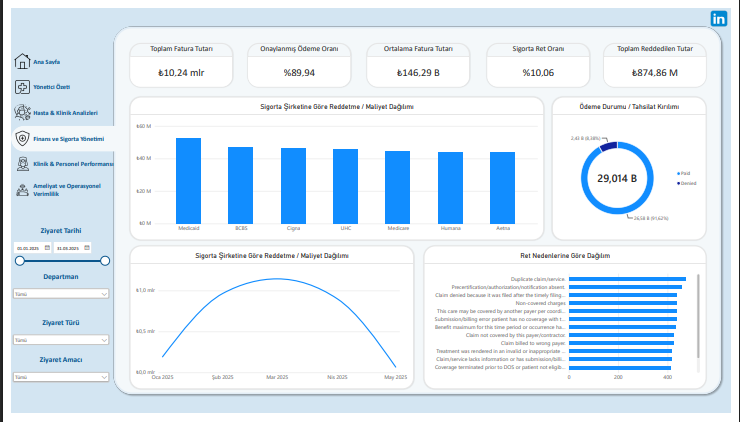

This screenshot's page, from the dashboard's own definition file:
{"tool":"powerbi","page":{"name":"Finans ve Sigorta Yönetimi","canvas":[1920,1080],"ordinal":3},"visuals":[{"type":"shape","box":[267.1,41.4,1635.7,995.7],"z":0},{"type":"actionButton","title":"Yönetici Özeti","box":[0,177.1,317.1,68.6],"z":1000},{"type":"image","box":[0,184.3,61.4,52.9],"z":2000},{"type":"actionButton","title":"Yönetici Özeti","box":[0,108.6,267.1,68.6],"z":3000},{"type":"image","box":[5.7,120,50,44.3],"z":4000},{"type":"actionButton","title":"Yönetici Özeti","box":[0,245.7,290,68.6],"z":5000},{"type":"image","box":[5.7,257.1,50,44.3],"z":6000},{"type":"actionButton","title":"Yönetici Özeti","box":[0,314.3,317.1,68.6],"z":7000},{"type":"image","box":[5.7,325.7,50,44.3],"z":8000},{"type":"actionButton","title":"Yönetici Özeti","box":[0,382.9,290,68.6],"z":9000},{"type":"image","box":[5.7,394.3,50,44.3],"z":10000},{"type":"actionButton","title":"Yönetici Özeti","box":[0,451.4,290,68.6],"z":11000},{"type":"image","box":[5.7,462.9,50,44.3],"z":12000},{"type":"image","box":[1854.3,0,65.7,55.7],"z":13000},{"type":"slicer","title":"Ziyaret Tarihi","fields":{"Values":["encounters.visit_date"]},"box":[0,580,267.1,122.9],"z":14000},{"type":"slicer","title":"Departman","fields":{"Values":["encounters.department"]},"box":[0,702.9,267.1,122.9],"z":15000},{"type":"slicer","title":"Ziyaret Türü","fields":{"Values":["encounters.visit_type"]},"box":[0,825.7,267.1,122.9],"z":16000},{"type":"slicer","title":"Ziyaret Amacı","fields":{"Values":["encounters.admission_type"]},"box":[0,925.7,267.1,122.9],"z":17000},{"type":"cardVisual","title":"Toplam Fatura Tutarı","fields":{"Data":["Sum(claims_and_billing.billed_amount)"]},"box":[317.1,94.3,274.3,117.1],"z":18000},{"type":"cardVisual","title":"Ortalama Fatura Tutarı","fields":{"Data":["claims_and_billing.Ortalama_Fatura_Tutari"]},"box":[948.6,94.3,274.3,117.1],"z":19000},{"type":"cardVisual","title":"Sigorta Ret Oranı","fields":{"Data":["claims_and_billing.Sigorta_Ret_Orani"]},"box":[1268.6,94.3,274.3,117.1],"z":20000},{"type":"cardVisual","title":"Onaylanmış Ödeme Oranı","fields":{"Data":["claims_and_billing.Onay_Orani"]},"box":[631.4,94.3,274.3,117.1],"z":21000},{"type":"cardVisual","title":"Toplam Reddedilen Tutar","fields":{"Data":["claims_and_billing.Toplam_Reddedilen_Tutar"]},"box":[1580,94.3,274.3,117.1],"z":22000},{"type":"clusteredColumnChart","title":"Sigorta Şirketine Göre Reddetme / Maliyet Dağılımı","fields":{"Category":["claims_and_billing.insurance_provider"],"Y":["claims_and_billing.Toplam_Reddedilen_Tutar"]},"box":[317.1,237.1,1104.3,381.4],"z":23000},{"type":"donutChart","title":"Ödeme Durumu / Tahsilat Kırılımı ","fields":{"Category":["claims_and_billing.claim_status"],"Y":["CountNonNull(claims_and_billing.claim_id)"]},"box":[1442.9,237.1,411.4,381.4],"z":24000},{"type":"lineChart","title":"Sigorta Şirketine Göre Reddetme / Maliyet Dağılımı","fields":{"Category":["claims_and_billing.claim_billing_date.Varyasyon.Tarih Hiyerarşisi.Yıl","claims_and_billing.claim_billing_date.Varyasyon.Tarih Hiyerarşisi.Ay"],"Y":["Sum(claims_and_billing.billed_amount)"]},"box":[317.1,634.3,757.1,381.4],"z":25000},{"type":"clusteredBarChart","title":"Ret Nedenlerine Göre Dağılım","fields":{"Category":["denials.denial_reason_description"],"Y":["CountNonNull(denials.claim_id)"]},"box":[1101.4,634.3,752.9,381.4],"z":26000}]}

Visuals, with their boxes on the page's 1920x1080 design canvas (x1, y1, x2, y2). These are canvas units, not pixel positions in the 740x422 screenshot, which may show the page scaled, cropped or inside an application window:
shape: {"x1": 267, "y1": 41, "x2": 1903, "y2": 1037}
"Yönetici Özeti" actionButton: {"x1": 0, "y1": 177, "x2": 317, "y2": 246}
image: {"x1": 0, "y1": 184, "x2": 61, "y2": 237}
"Yönetici Özeti" actionButton: {"x1": 0, "y1": 109, "x2": 267, "y2": 177}
image: {"x1": 6, "y1": 120, "x2": 56, "y2": 164}
"Yönetici Özeti" actionButton: {"x1": 0, "y1": 246, "x2": 290, "y2": 314}
image: {"x1": 6, "y1": 257, "x2": 56, "y2": 301}
"Yönetici Özeti" actionButton: {"x1": 0, "y1": 314, "x2": 317, "y2": 383}
image: {"x1": 6, "y1": 326, "x2": 56, "y2": 370}
"Yönetici Özeti" actionButton: {"x1": 0, "y1": 383, "x2": 290, "y2": 452}
image: {"x1": 6, "y1": 394, "x2": 56, "y2": 439}
"Yönetici Özeti" actionButton: {"x1": 0, "y1": 451, "x2": 290, "y2": 520}
image: {"x1": 6, "y1": 463, "x2": 56, "y2": 507}
image: {"x1": 1854, "y1": 0, "x2": 1920, "y2": 56}
"Ziyaret Tarihi" slicer: {"x1": 0, "y1": 580, "x2": 267, "y2": 703}
"Departman" slicer: {"x1": 0, "y1": 703, "x2": 267, "y2": 826}
"Ziyaret Türü" slicer: {"x1": 0, "y1": 826, "x2": 267, "y2": 949}
"Ziyaret Amacı" slicer: {"x1": 0, "y1": 926, "x2": 267, "y2": 1049}
"Toplam Fatura Tutarı" cardVisual: {"x1": 317, "y1": 94, "x2": 591, "y2": 211}
"Ortalama Fatura Tutarı" cardVisual: {"x1": 949, "y1": 94, "x2": 1223, "y2": 211}
"Sigorta Ret Oranı" cardVisual: {"x1": 1269, "y1": 94, "x2": 1543, "y2": 211}
"Onaylanmış Ödeme Oranı" cardVisual: {"x1": 631, "y1": 94, "x2": 906, "y2": 211}
"Toplam Reddedilen Tutar" cardVisual: {"x1": 1580, "y1": 94, "x2": 1854, "y2": 211}
"Sigorta Şirketine Göre Reddetme / Maliyet Dağılımı" clusteredColumnChart: {"x1": 317, "y1": 237, "x2": 1421, "y2": 618}
"Ödeme Durumu / Tahsilat Kırılımı " donutChart: {"x1": 1443, "y1": 237, "x2": 1854, "y2": 618}
"Sigorta Şirketine Göre Reddetme / Maliyet Dağılımı" lineChart: {"x1": 317, "y1": 634, "x2": 1074, "y2": 1016}
"Ret Nedenlerine Göre Dağılım" clusteredBarChart: {"x1": 1101, "y1": 634, "x2": 1854, "y2": 1016}
